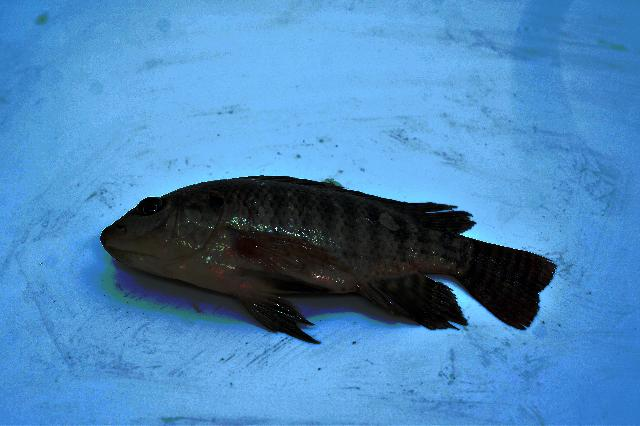Columnaris Disease: (101, 177, 555, 343)
